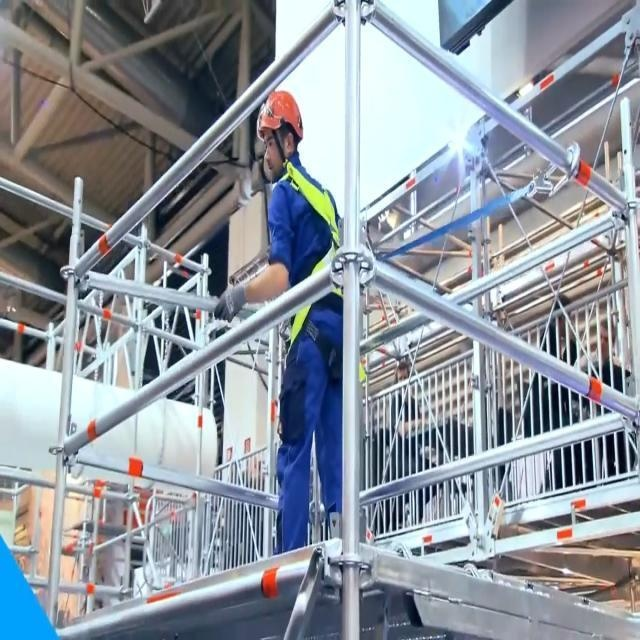Arnes_seguridad: (274, 156, 365, 397)
